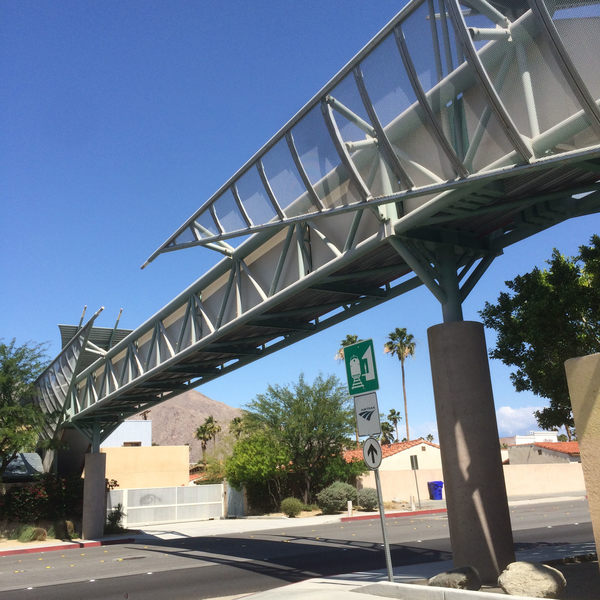bridge: (5, 1, 600, 474)
